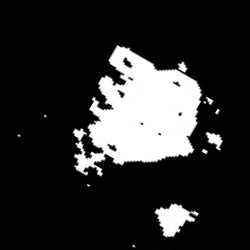pinhole: (43, 114, 48, 118), (202, 150, 206, 155), (18, 134, 21, 137), (87, 185, 90, 188)
spot: (74, 47, 219, 176), (152, 203, 198, 238), (207, 132, 222, 148)
